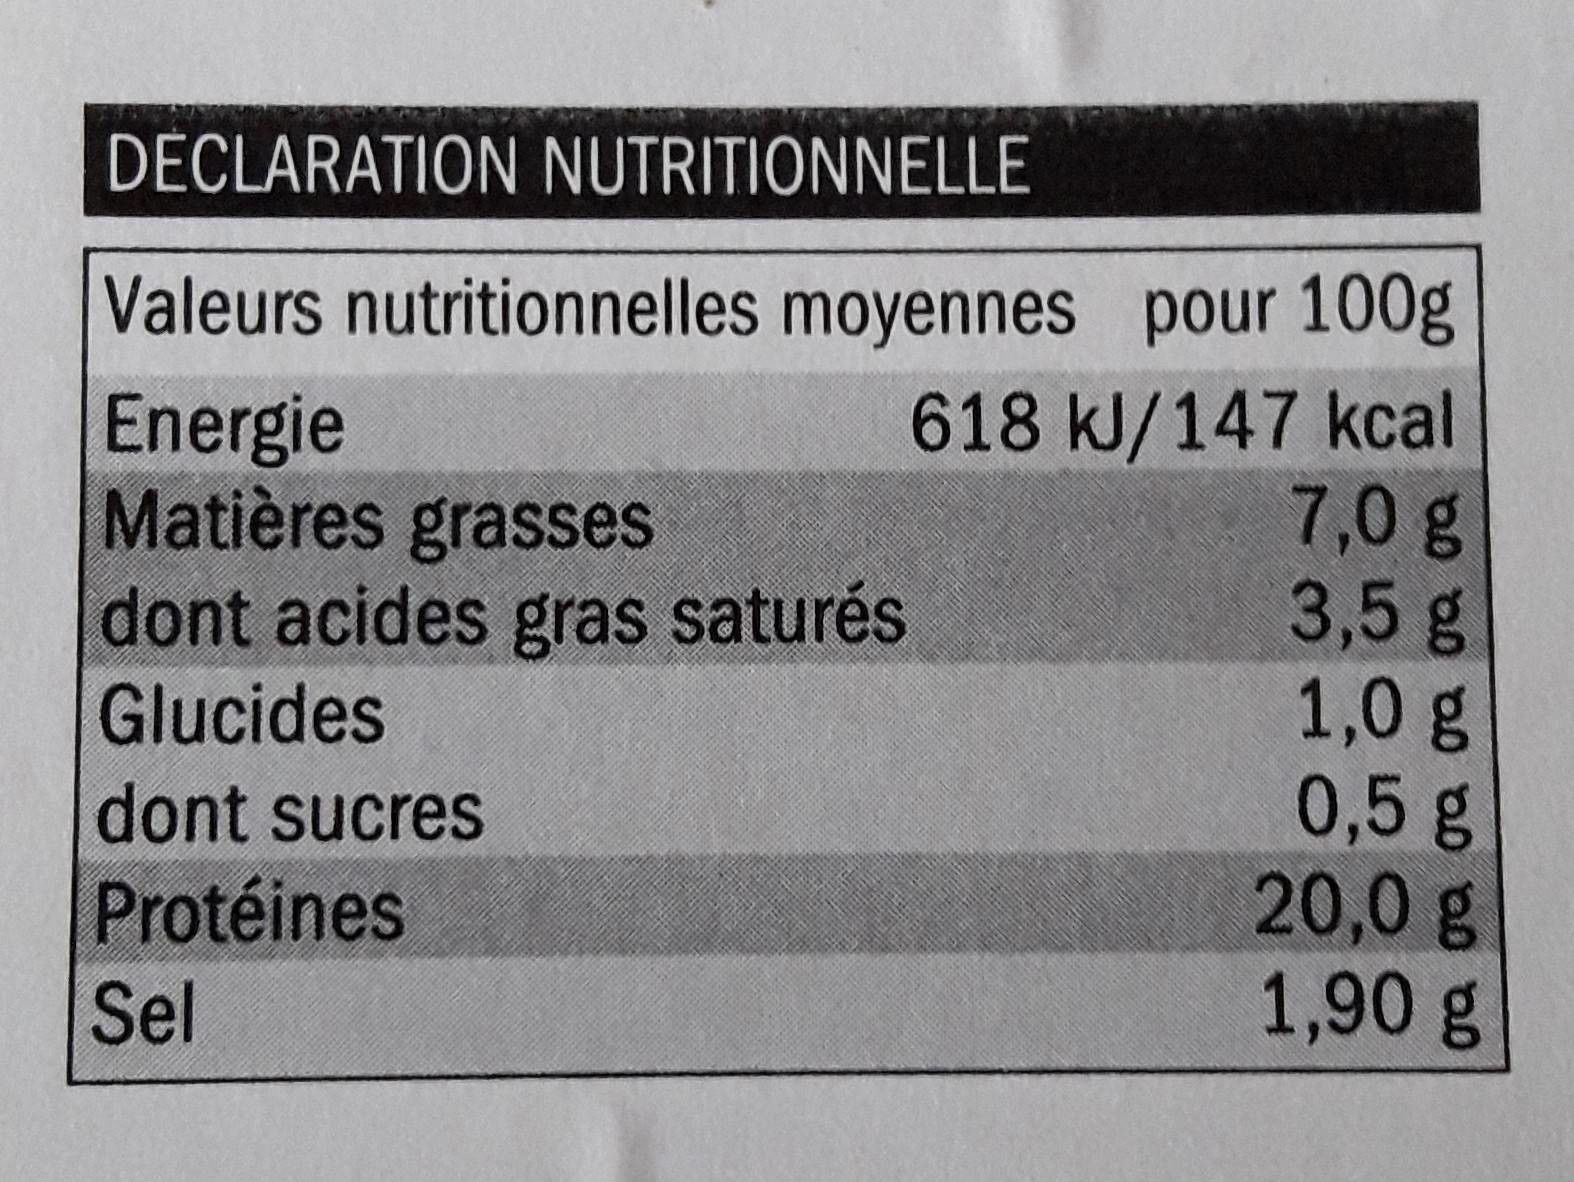column: (86, 250, 1131, 1070), (1140, 248, 1509, 1075)
table: (79, 238, 1511, 1081)
